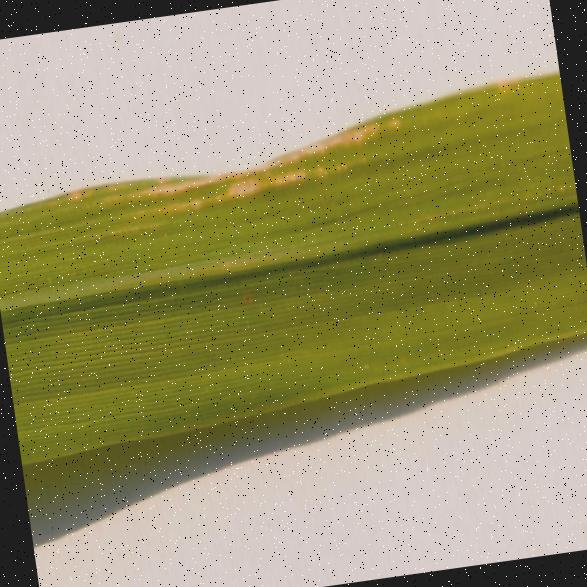Bacteria_Leaf_Blight: (41, 92, 460, 218)
